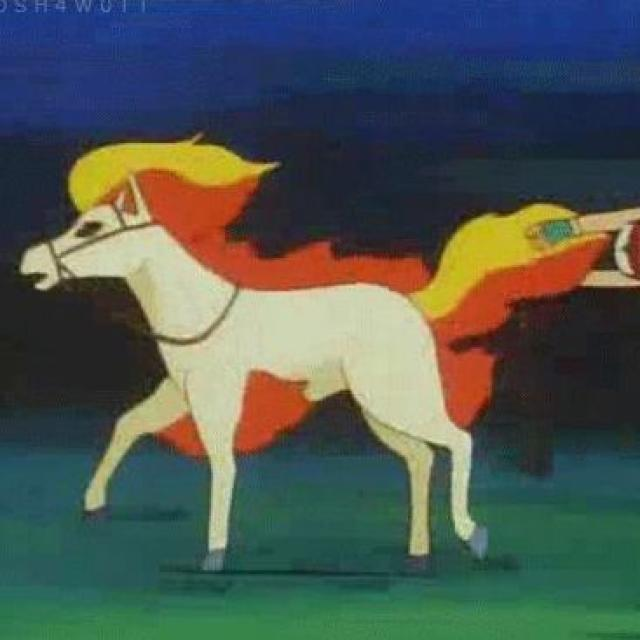Ponyta: (33, 141, 498, 561)
